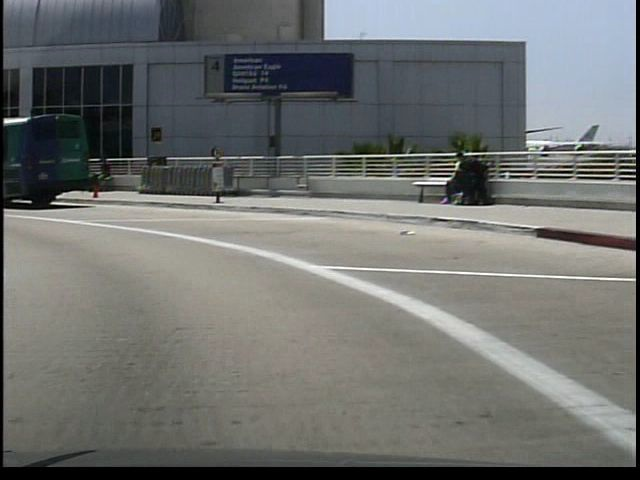person: (90, 152, 112, 196)
